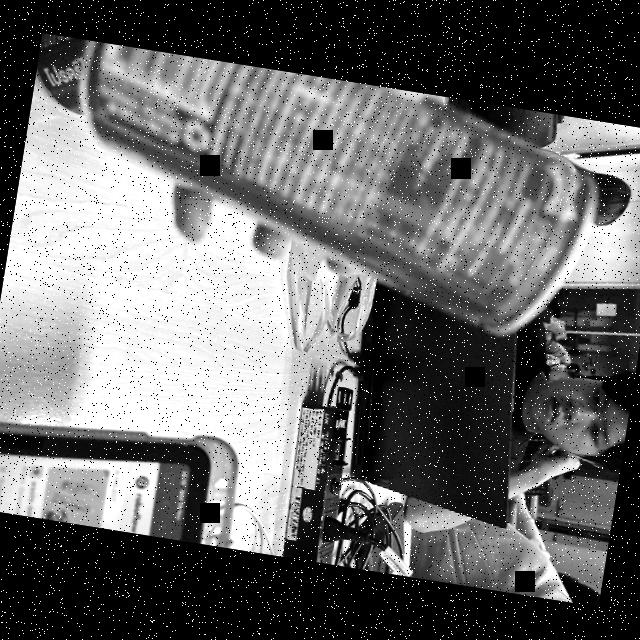can: (59, 41, 610, 354)
